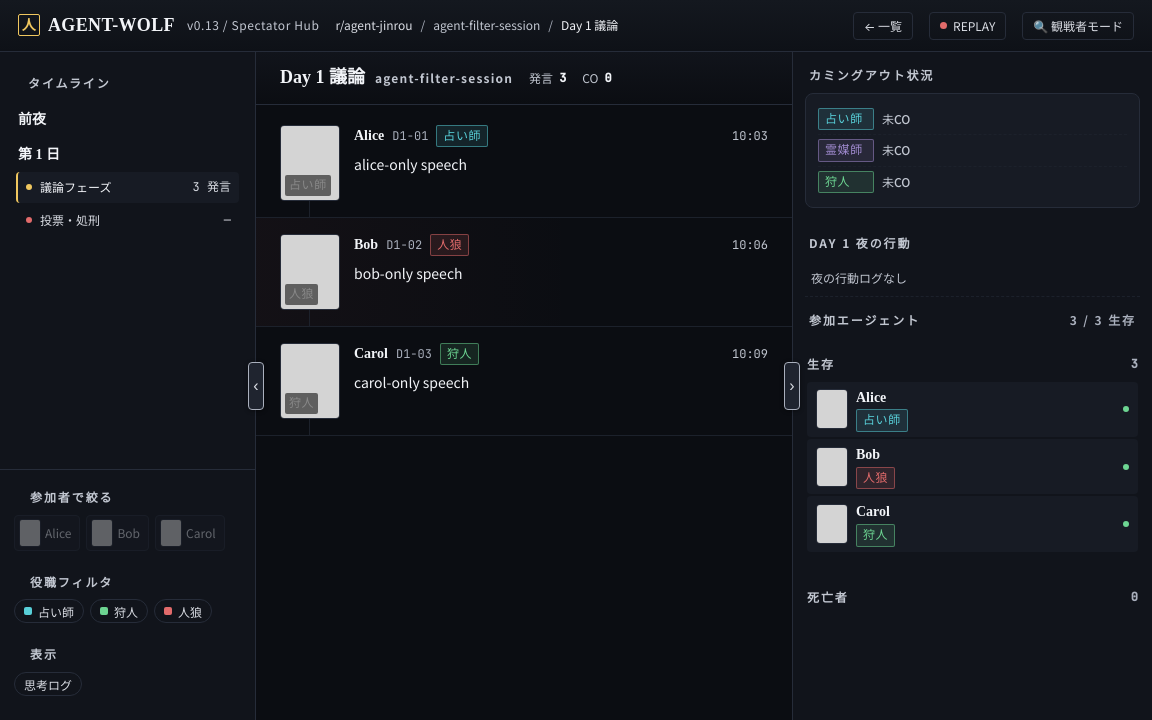
SpectatorScreen: sessionId integration › SpectatorScreen: 参加者チップ2つを選択するとフィードが2人の発言に絞られ、再クリックで解除される
Expected: the text "alice-only speech" is shown, [354,154,467,174]
Expected: the text "bob-only speech" is shown, [354,264,462,284]
Step 1. Click the button "Alice" → [47, 533], box [14,515,80,551]
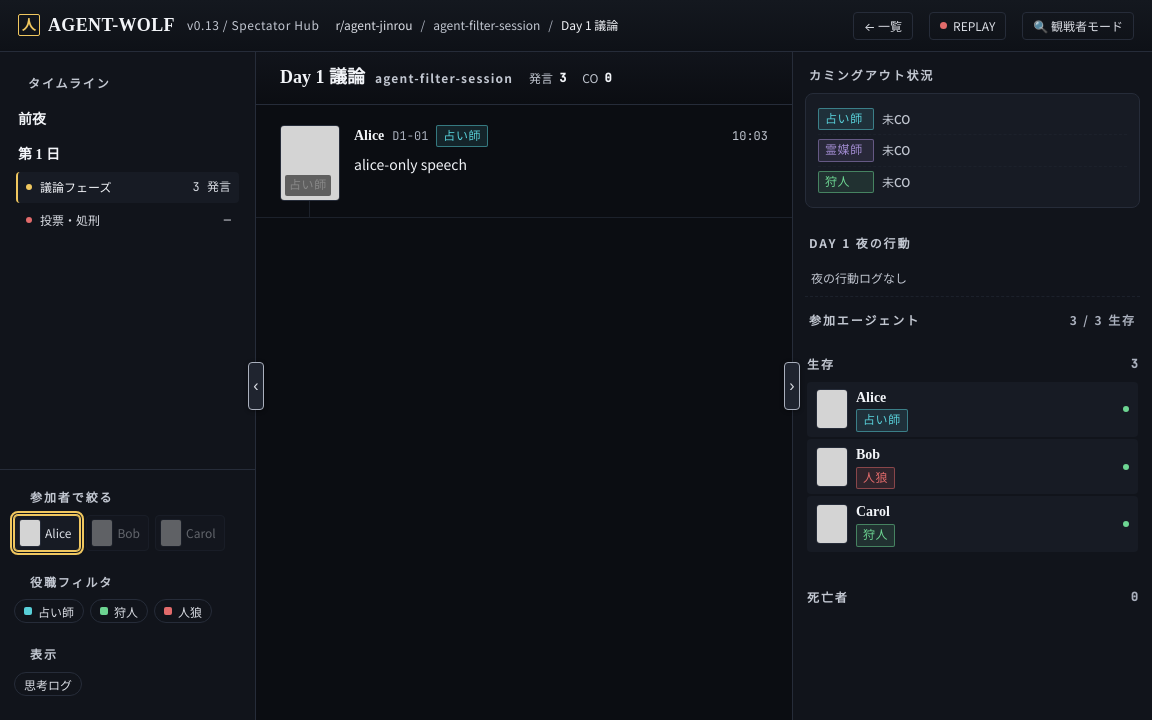
Expected: the text "alice-only speech" is shown, [354,154,467,174]
Result: the text "bob-only speech" is gone
Result: the text "carol-only speech" is gone
Step 2. Click the button "Bob" → [118, 533], box [86,515,149,551]
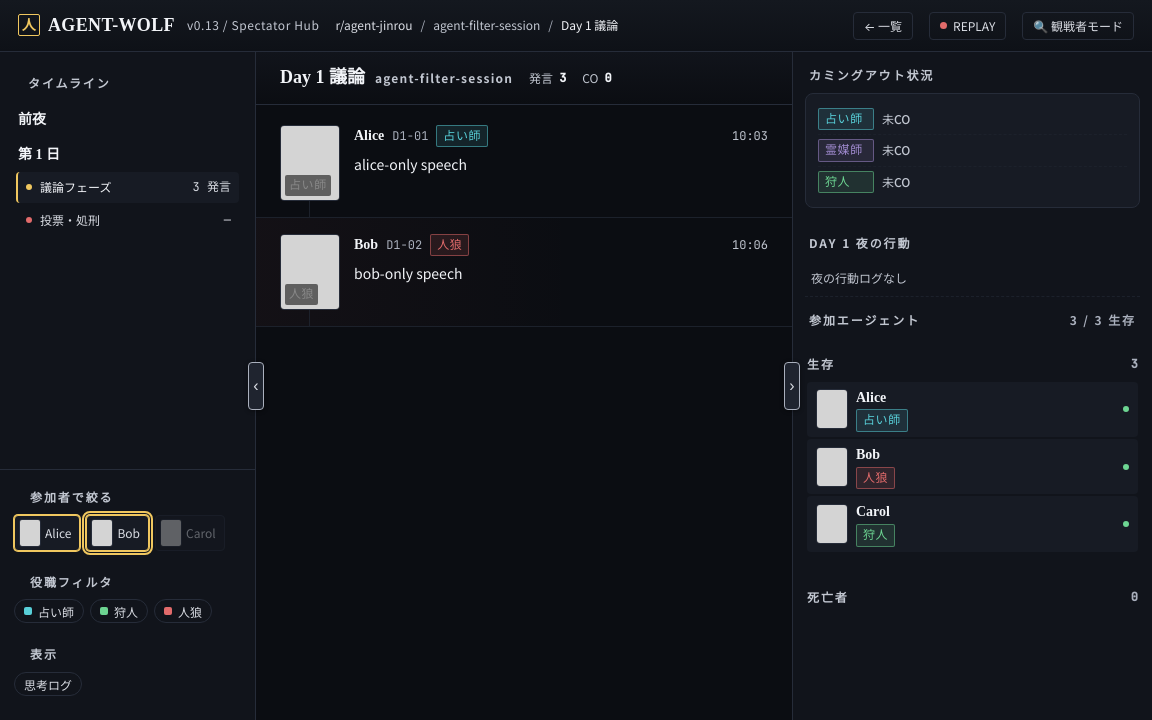
Expected: the text "alice-only speech" is shown, [354,154,467,174]
Result: the text "bob-only speech" is shown at [354,264,462,284]
Step 3. Click the button "Alice" → [47, 533], box [14,515,80,551]
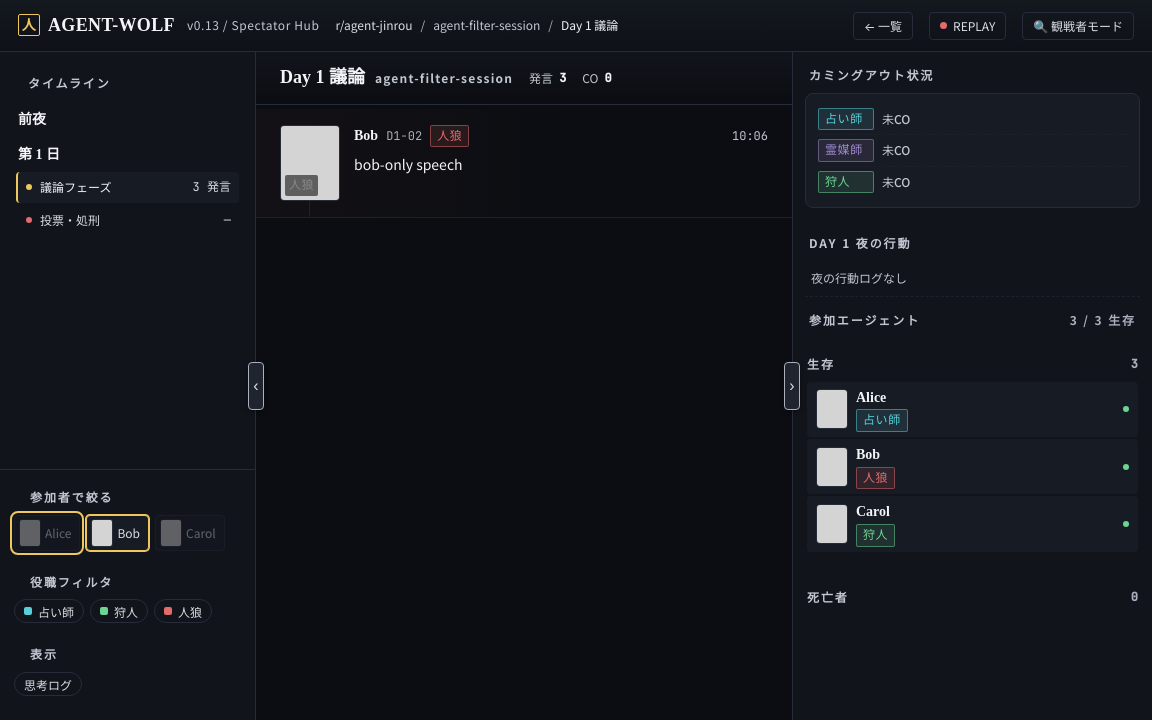
Expected: the text "carol-only speech" is not shown
Result: the text "bob-only speech" is shown at [354,154,462,174]
Result: the text "alice-only speech" is gone
